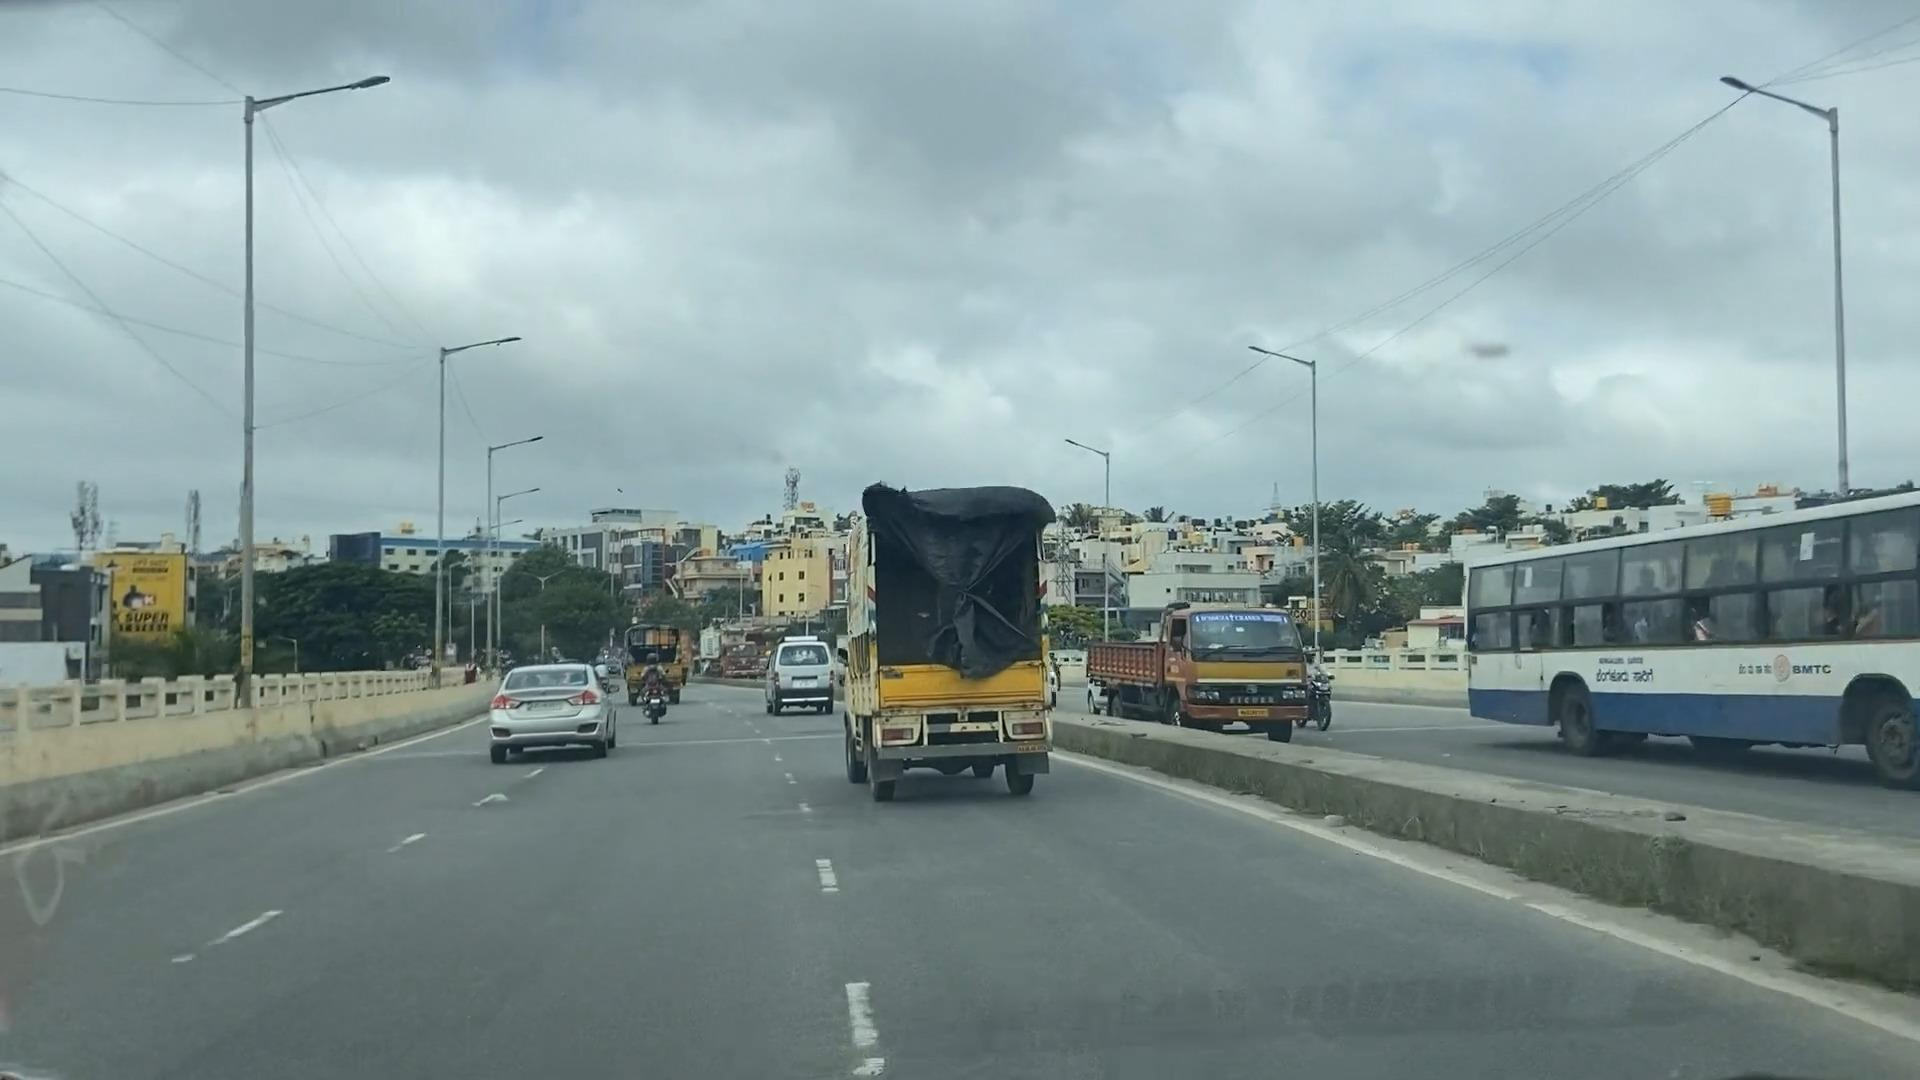HMV: (1445, 497, 1920, 775), (844, 467, 1069, 806), (1088, 588, 1321, 737)
